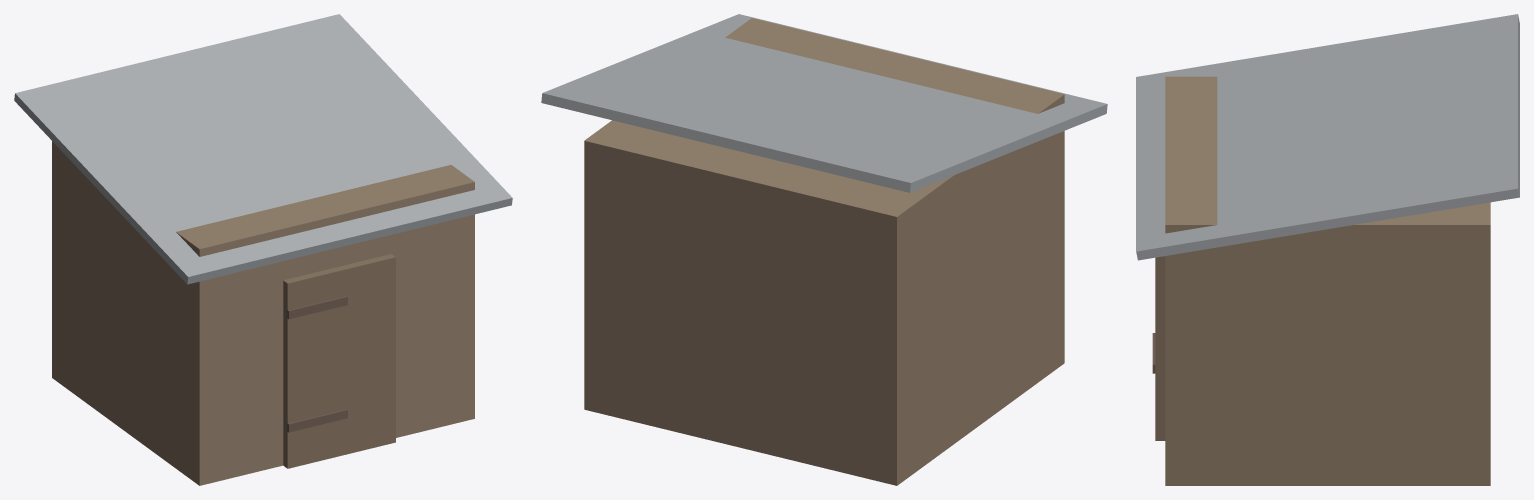
The model's file is storage_shed.glb.
3 renders of one model, left to right at view 1: azimuth 30°, elevation 25°; view 2: azimuth 150°, elevation 25°; view 3: azimuth 270°, elevation 25°, orthographic. The views are drawn at different scales.
Parts seen in each view (by area): view 1: geometry_0; view 2: geometry_0; view 3: geometry_0.
Boxes of the visible parts, x1,y1,x2,y2 form: geometry_0: [14, 14, 512, 485]; geometry_0: [541, 14, 1107, 485]; geometry_0: [1136, 14, 1519, 485].
Size of the model in its own units: 3.3 by 2.74 by 3.06.
